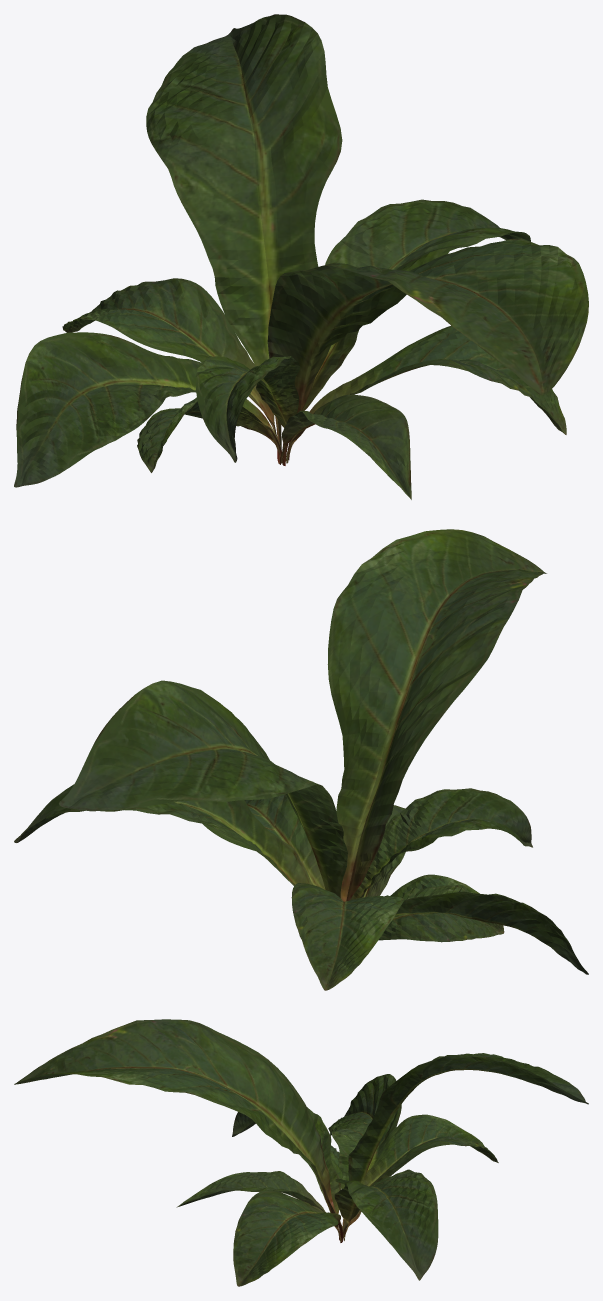
The model's file is anthurium.glb.
3 views of the same model, one above another, from view 1: azimuth 30°, elevation 25°; view 2: azimuth 150°, elevation 25°; view 3: azimuth 270°, elevation 25° (orthographic). The views are drawn at different scales.
Size of the model in its own units: 0.8962 by 0.4997 by 1.14.
1 material, 1 textured.
